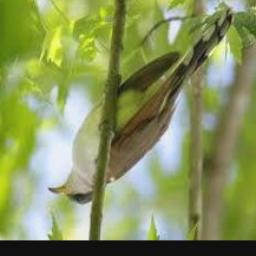Cuckoo: (47, 11, 234, 205)
